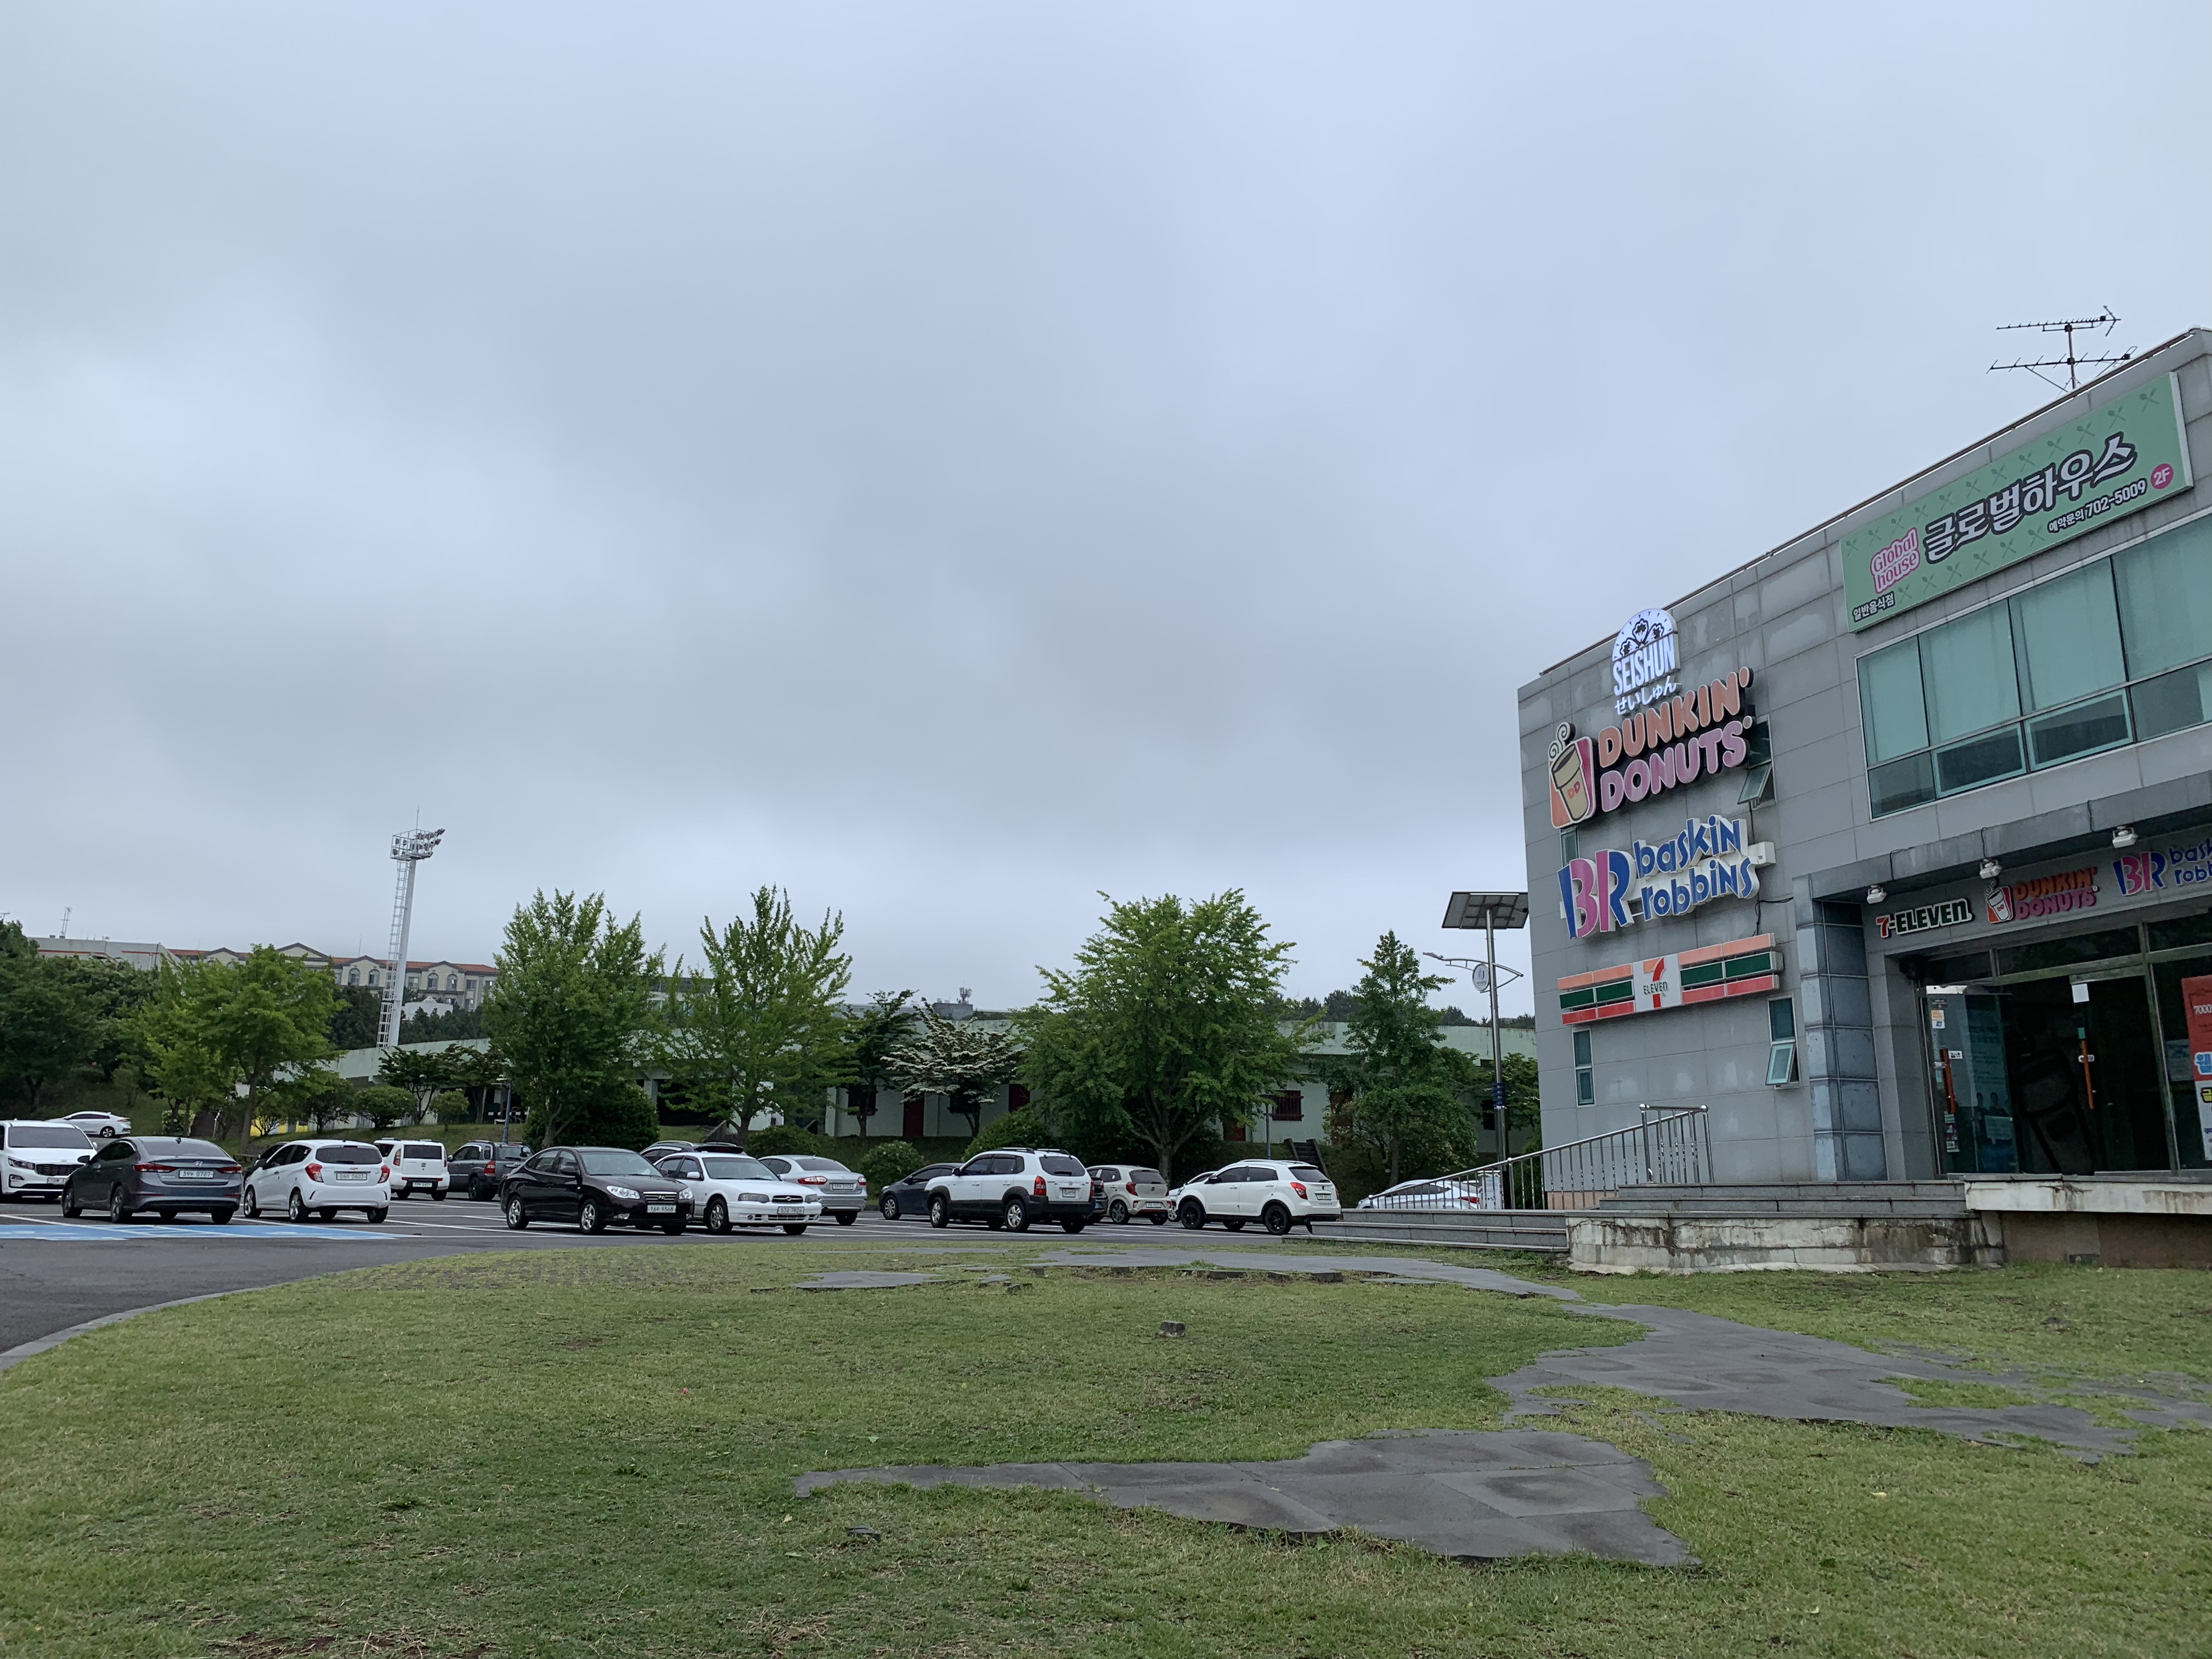Global House: (1496, 350, 2212, 1251)
